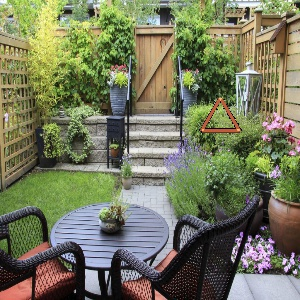triangle: (193, 95, 245, 137)
